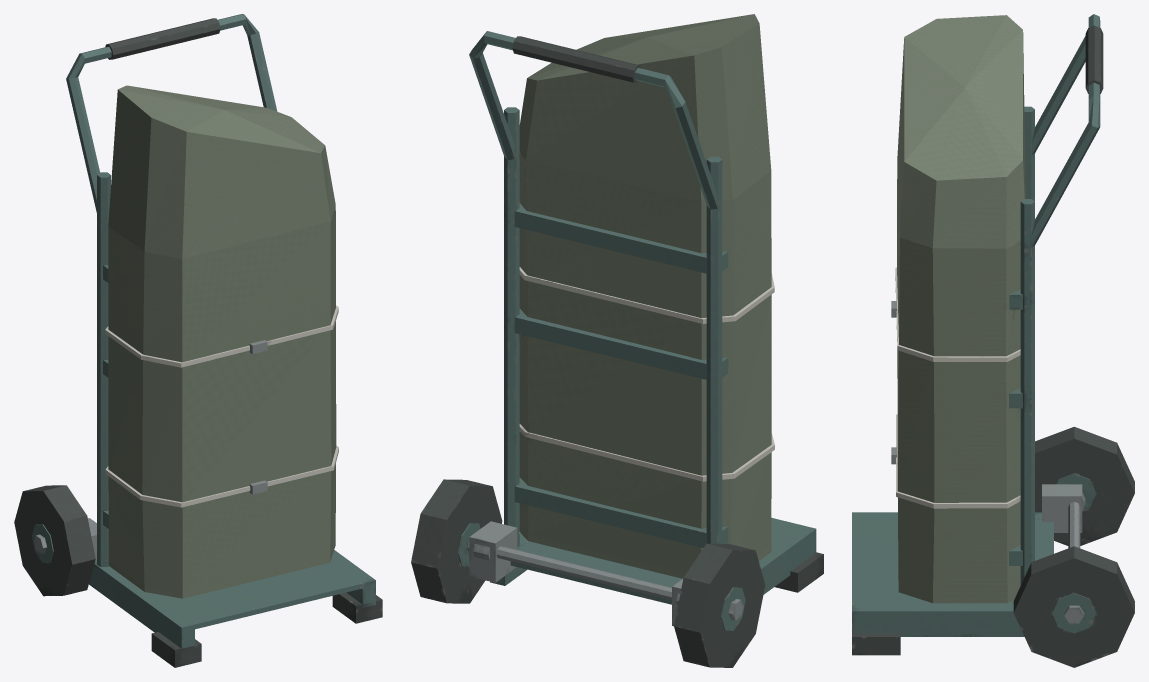
Rendered from industry_welding_cart_covered.glb.
3 renders of one model, left to right at view 1: azimuth 30°, elevation 25°; view 2: azimuth 150°, elevation 25°; view 3: azimuth 270°, elevation 25°, orthographic. The views are drawn at different scales.
Parts seen in each view (by area): view 1: WeldingCart; view 2: WeldingCart; view 3: WeldingCart.
Part boxes in pixels (x1=…): WeldingCart: x1=14, y1=14, x2=382, y2=667; WeldingCart: x1=411, y1=14, x2=823, y2=667; WeldingCart: x1=852, y1=14, x2=1134, y2=667.
Size of what is drawn, in the model's own units: 0.8 by 1.5 by 0.7.
1 material, 1 textured.
